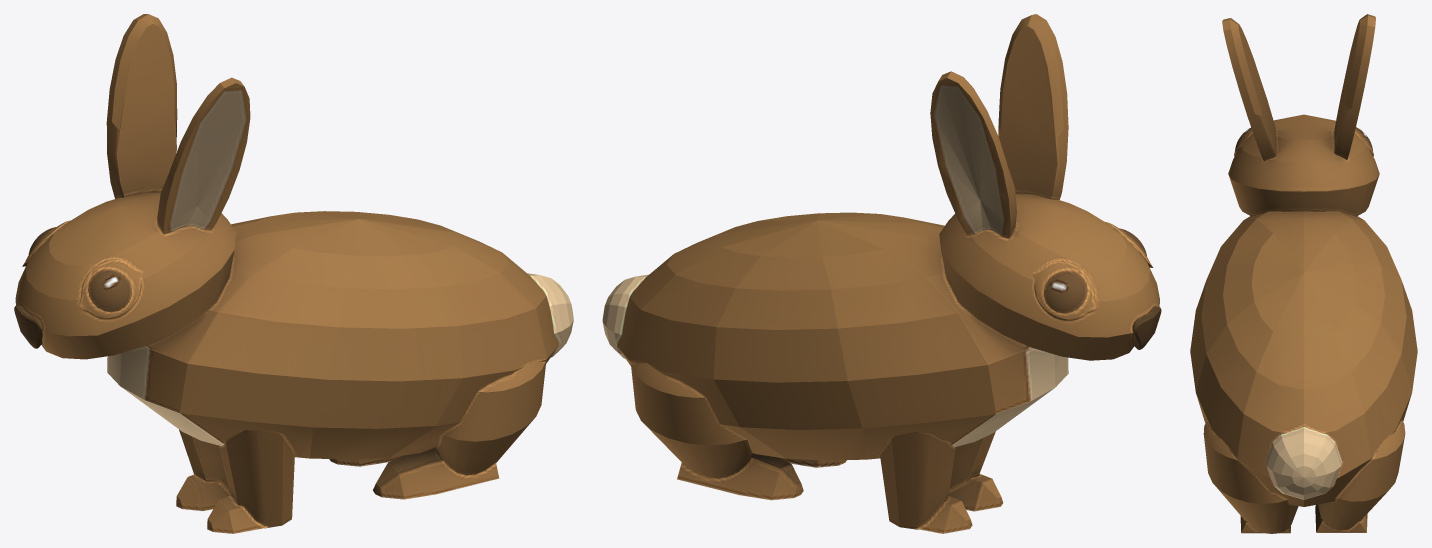
Rendered from Rabbit.Fbx.
3 renders of one model, left to right at view 1: azimuth 30°, elevation 25°; view 2: azimuth 150°, elevation 25°; view 3: azimuth 270°, elevation 25°, orthographic. The views are drawn at different scales.
Parts seen in each view (by area): view 1: polySurface38; view 2: polySurface38; view 3: polySurface38.
Boxes of the visible parts, x1,y1,x2,y2 form: polySurface38: (14, 14, 573, 533); polySurface38: (602, 14, 1161, 533); polySurface38: (1190, 14, 1417, 533).
Size of the model in its own units: 3.35 by 2.8 by 1.43.
